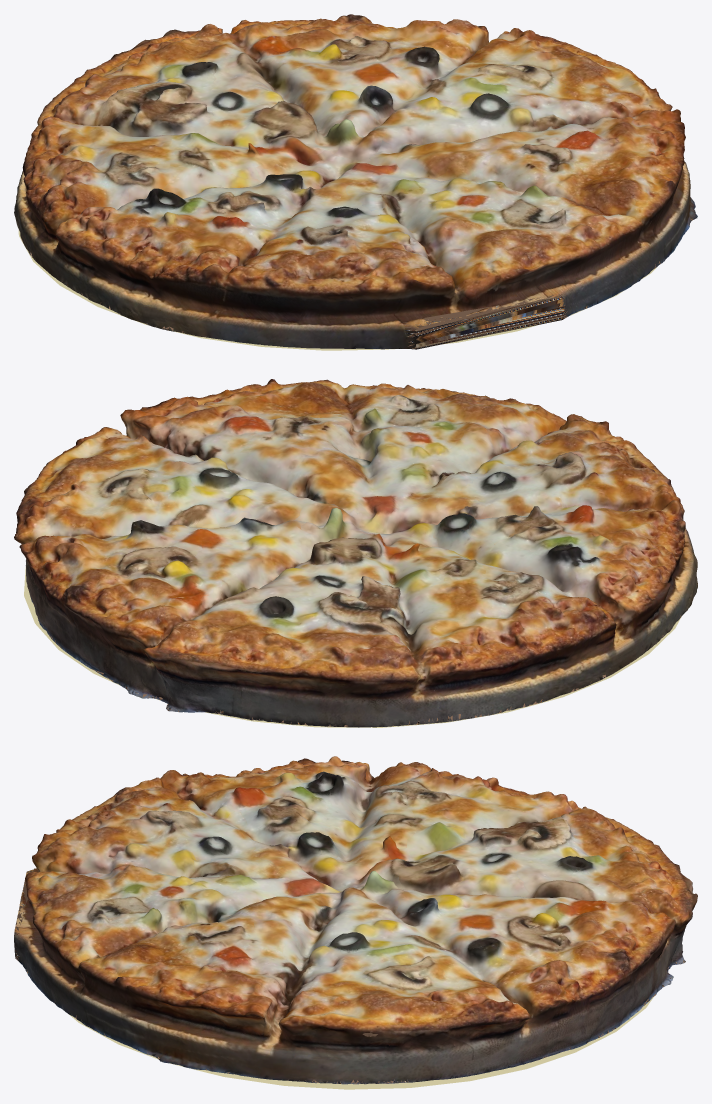
Rendered from Pizza.mix.glb.
3 views of the same model, one above another, from view 1: azimuth 30°, elevation 25°; view 2: azimuth 150°, elevation 25°; view 3: azimuth 270°, elevation 25° (orthographic). The views are drawn at different scales.
Parts seen in each view (by area): view 1: 3DModel, Circle; view 2: 3DModel, Circle; view 3: 3DModel, Circle.
Boxes of the visible parts, x1,y1,x2,y2 form: 3DModel: (14,14,697,349); Circle: (18,229,656,350); 3DModel: (14,379,697,727); Circle: (24,567,681,727); 3DModel: (14,756,697,1084); Circle: (68,997,653,1089).
Size of the model in its own units: 0.3579 by 0.0522 by 0.368.
2 materials, 1 textured.
